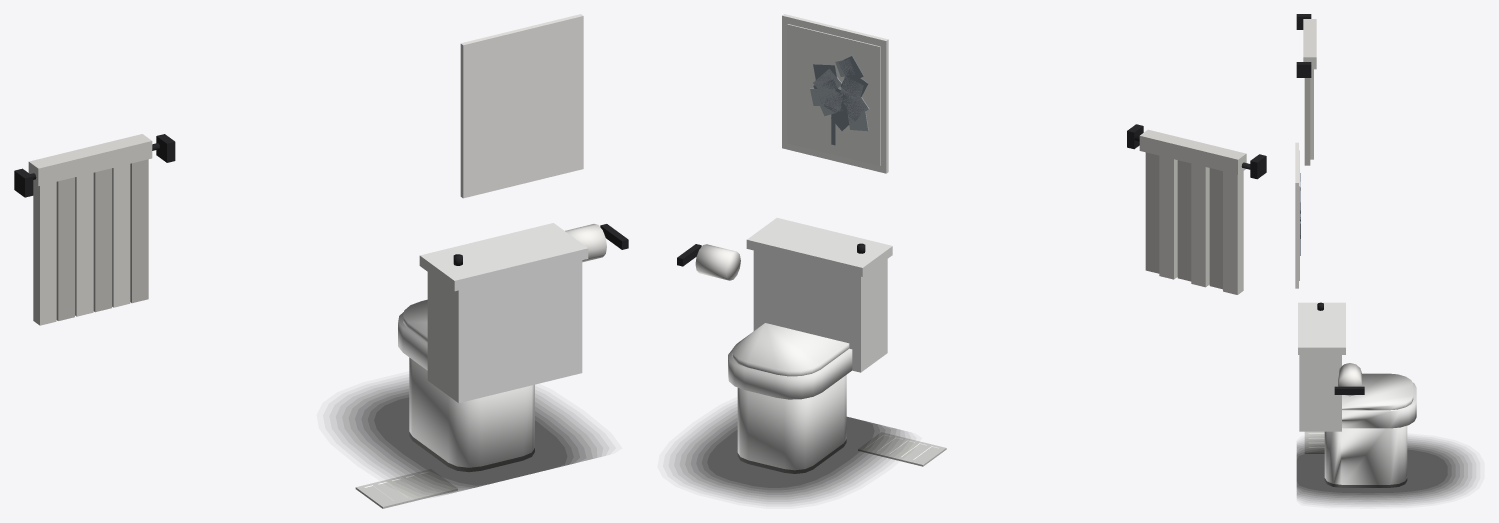
The model's file is bath2f_toilet.glb.
3 renders of one model, left to right at view 1: azimuth 30°, elevation 25°; view 2: azimuth 150°, elevation 25°; view 3: azimuth 270°, elevation 25°, orthographic. The views are drawn at different scales.
Parts seen in each view (by area): view 1: root; view 2: root; view 3: root.
Part boxes in pixels (x1,y1,x2,y2): root: [14, 14, 628, 508]; root: [669, 14, 1266, 503]; root: [1295, 14, 1475, 504].
Size of what is drawn, in the model's own units: 2.3 by 1.57 by 0.8652.
